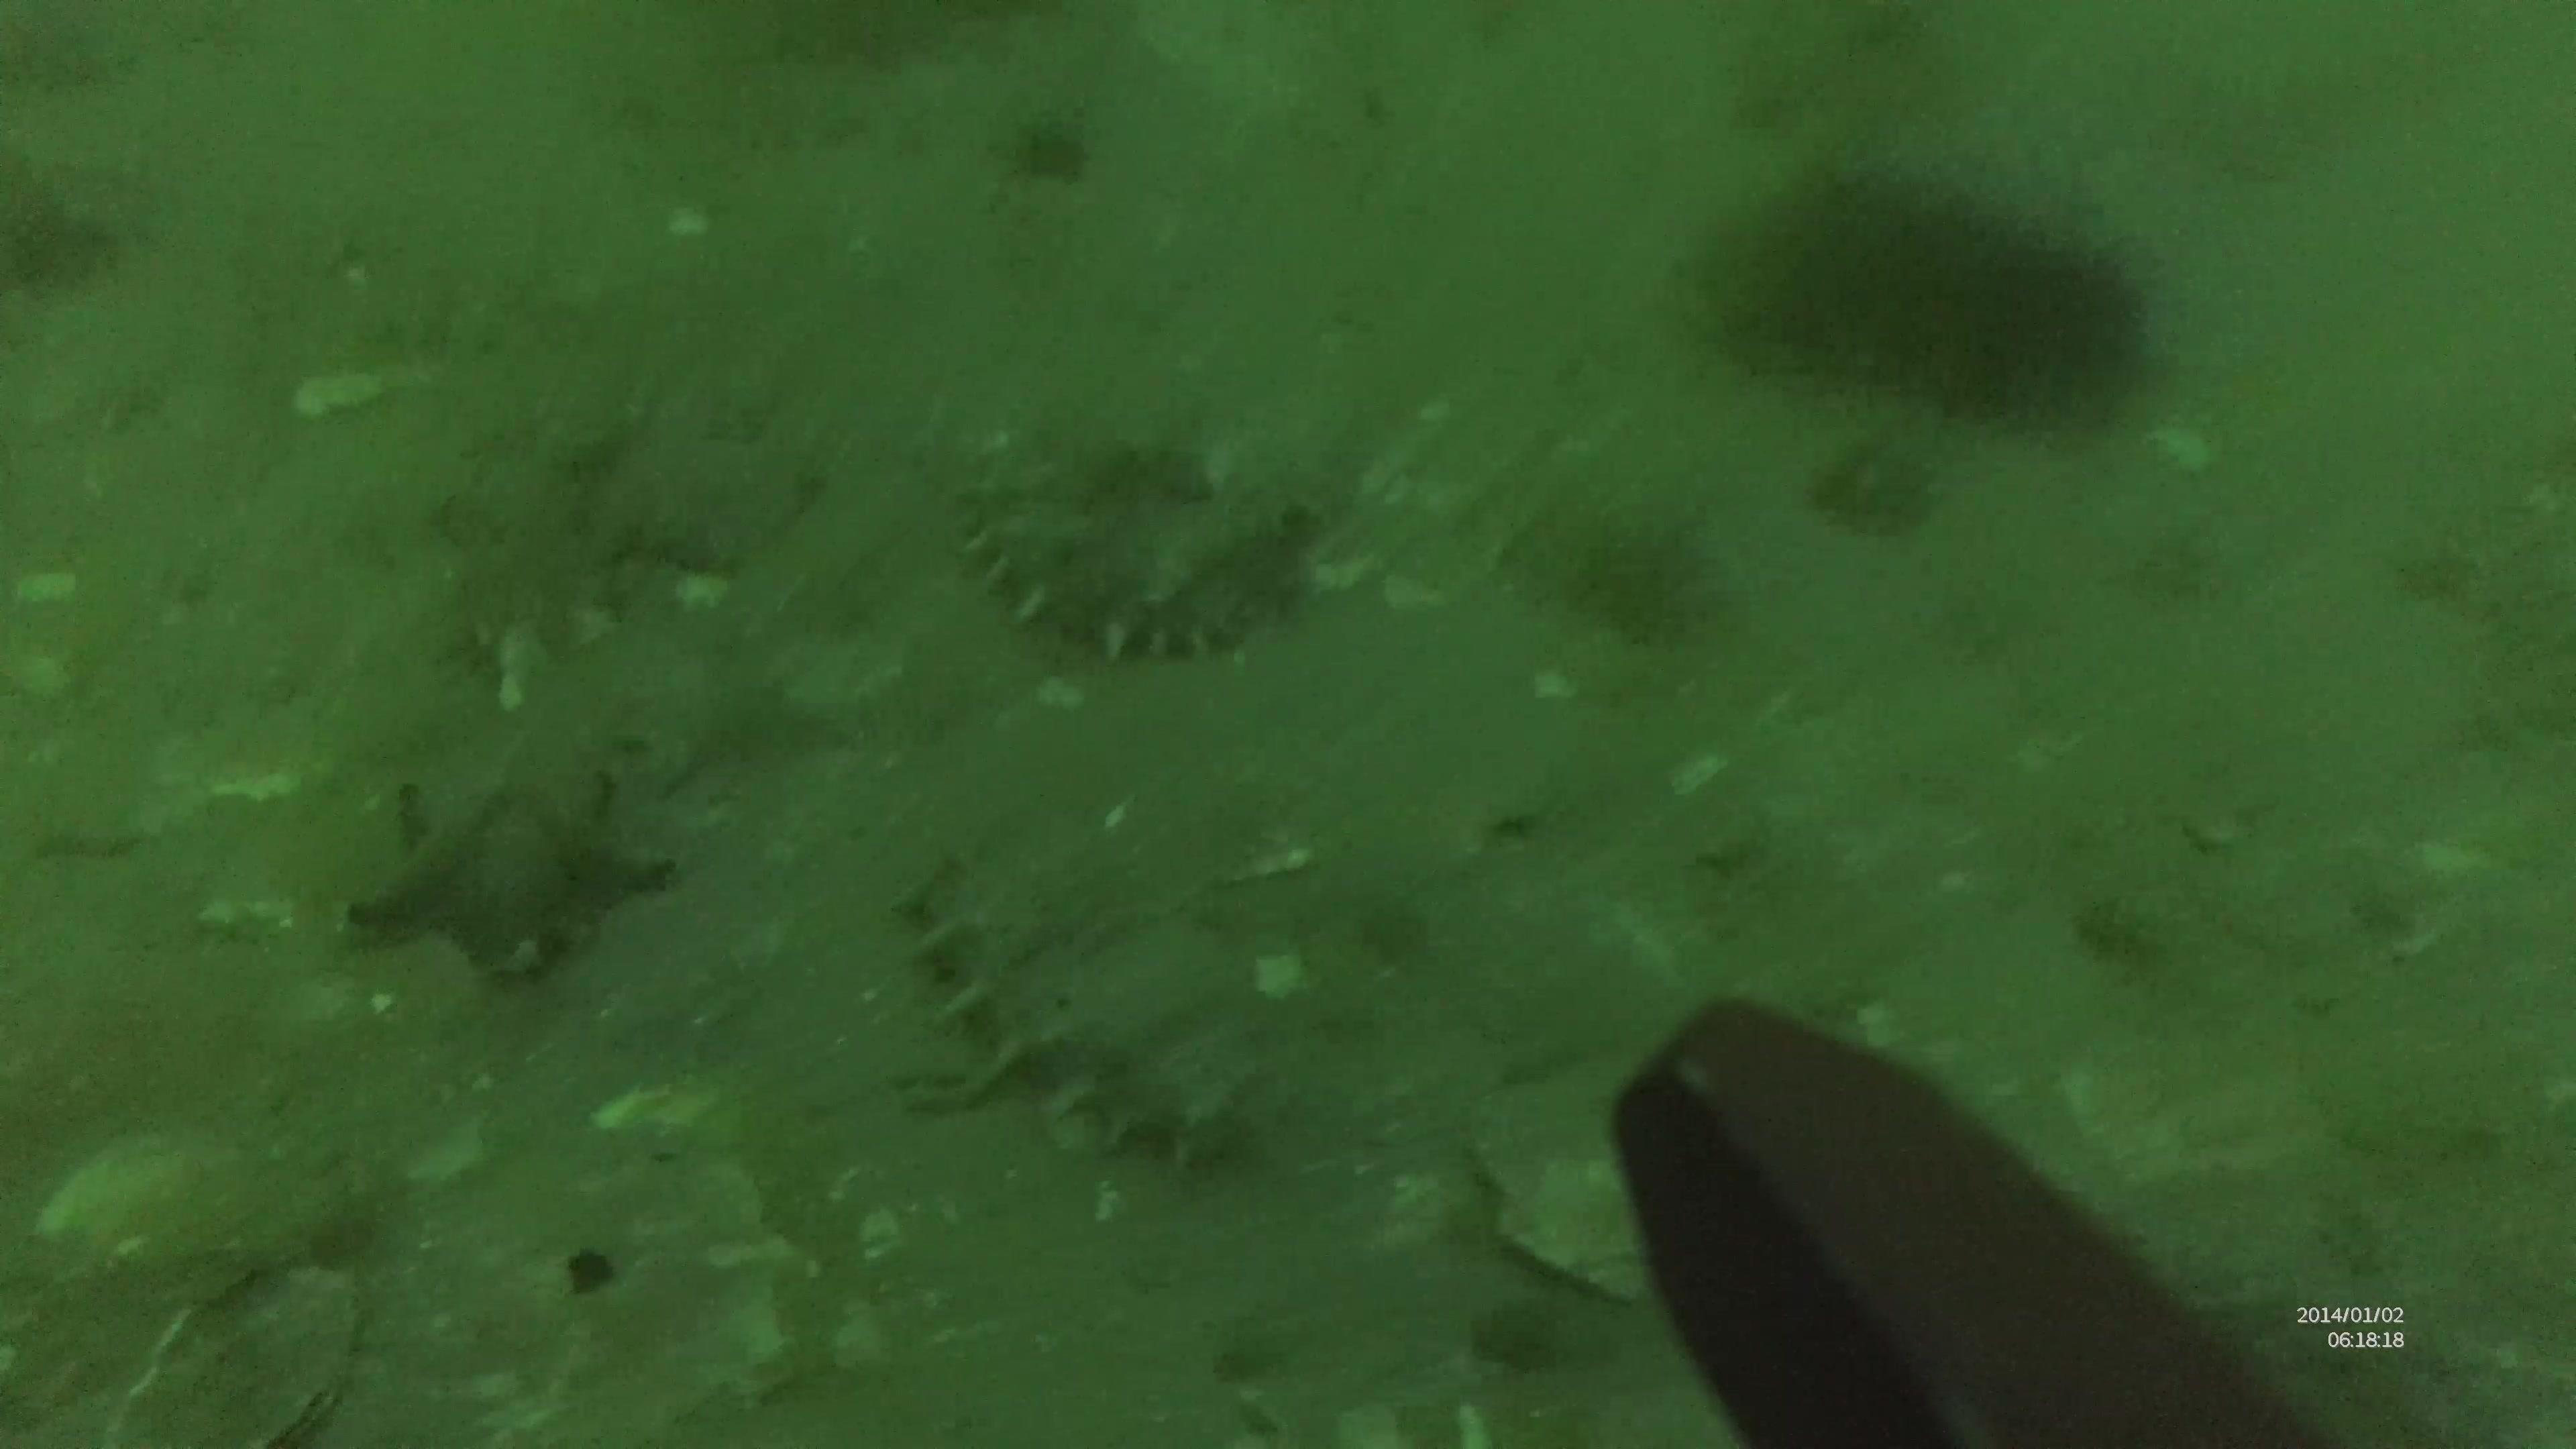holothurian: (893, 881, 1205, 1185), (973, 455, 1313, 685)
starfish: (352, 761, 635, 994)
